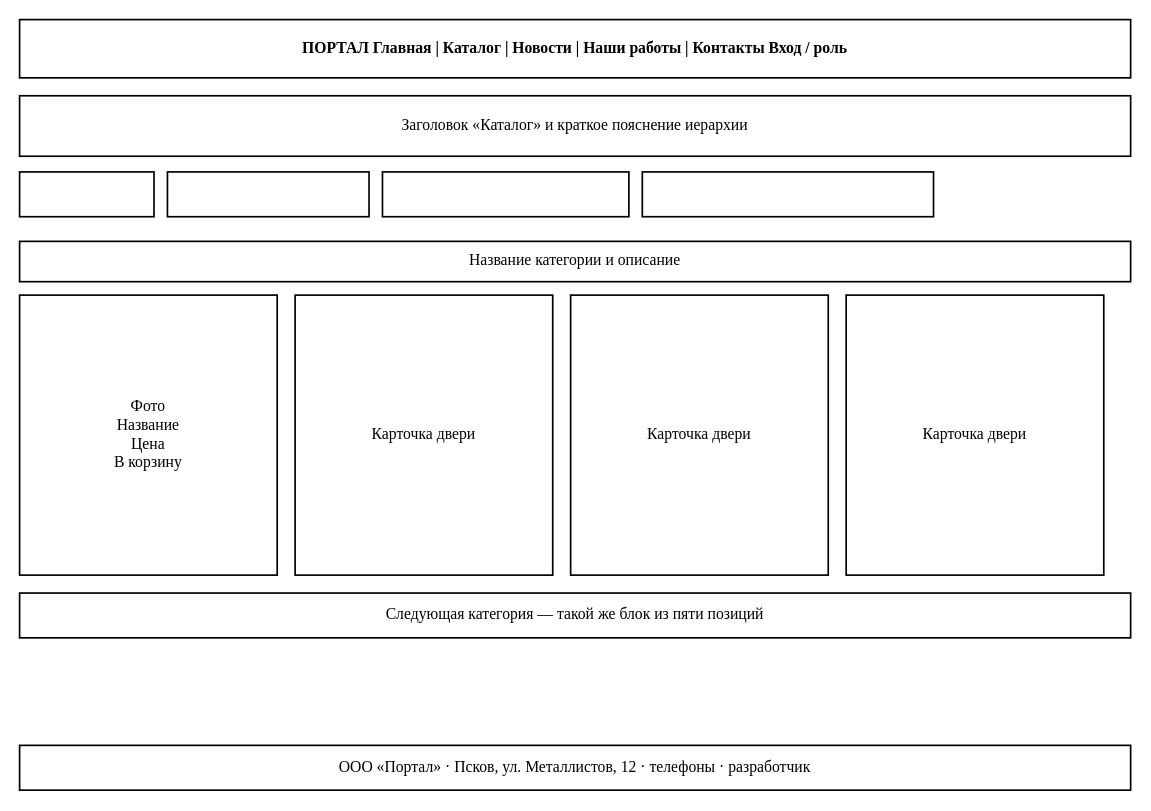
The diagram is 1151 pixels wide and 811 high, and some of its shapes have lost their labels. Here are the shapes that lost their labels. From the top down, the centre of each, then its label:
At point (86, 194): "Все".
At point (267, 194): "Входные".
At point (505, 194): "Межкомнатные".
At point (787, 194): "Для частных домов".
